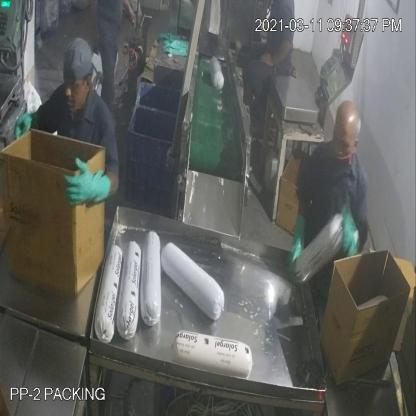glove: (58, 150, 117, 220)
no_glove: (259, 36, 297, 78)
